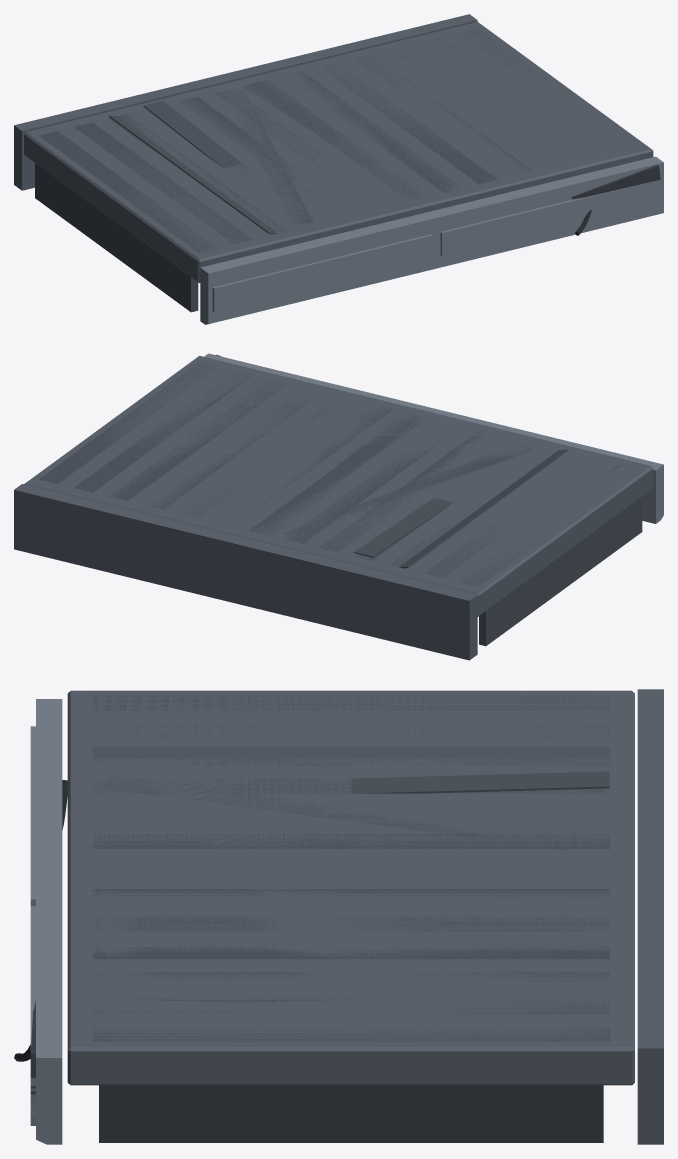
The model's file is shr_cmp_generic_platform_composite_a.glb.
3 renders of one model, top to bottom at view 1: azimuth 30°, elevation 25°; view 2: azimuth 150°, elevation 25°; view 3: azimuth 270°, elevation 25°, orthographic. The views are drawn at different scales.
Visible parts, largest first — view 1: mesh_heavy, mesh_intact, mesh_light; view 2: mesh_heavy, mesh_light, mesh_intact; view 3: mesh_heavy, mesh_light, mesh_intact.
Part boxes in pixels (x1=…): mesh_heavy: x1=14, y1=14, x2=663, y2=324; mesh_intact: x1=109, y1=22, x2=663, y2=323; mesh_light: x1=25, y1=22, x2=661, y2=281; mesh_heavy: x1=14, y1=353, x2=663, y2=660; mesh_light: x1=25, y1=356, x2=653, y2=593; mesh_intact: x1=26, y1=354, x2=663, y2=569; mesh_heavy: x1=14, y1=689, x2=663, y2=1144; mesh_light: x1=30, y1=690, x2=634, y2=1125; mesh_intact: x1=30, y1=692, x2=629, y2=1144.
Bounding box in the file's own units: 1.6 × 0.2149 × 1.22.
